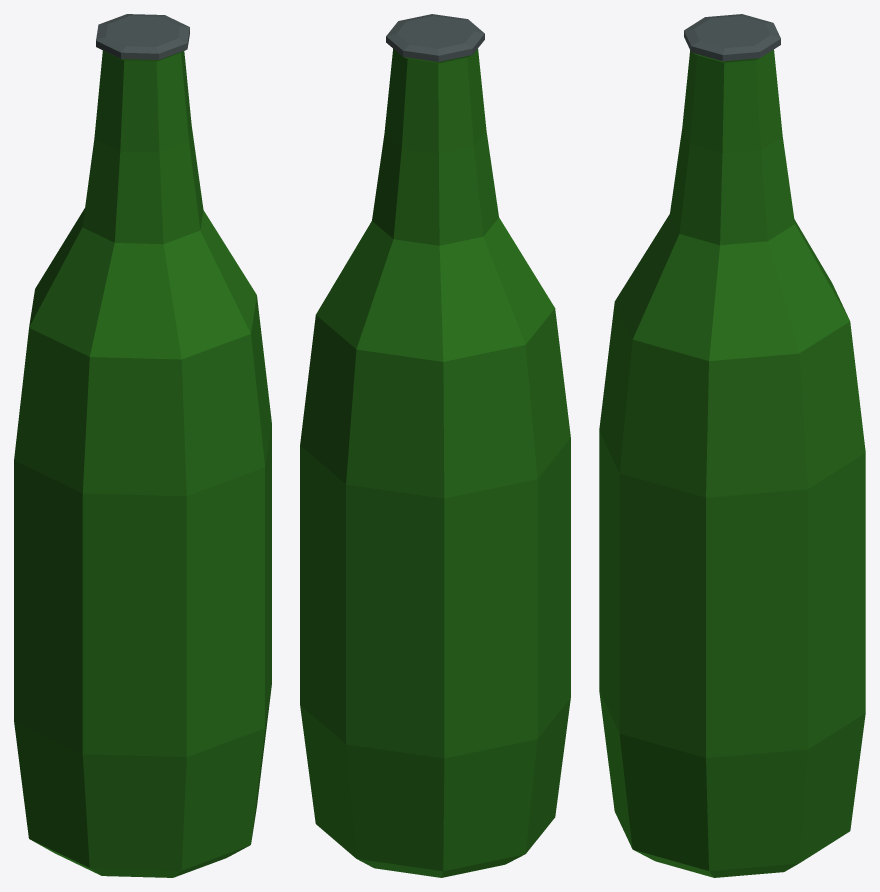
Rendered from glass_bottle.fbx.
3 views of the same model, side by side, from view 1: azimuth 30°, elevation 25°; view 2: azimuth 150°, elevation 25°; view 3: azimuth 270°, elevation 25° (orthographic).
Parts seen in each view (by area): view 1: Cylinder.001; view 2: Cylinder.001; view 3: Cylinder.001.
Boxes of the visible parts, x1=… form: Cylinder.001: x1=14, y1=14, x2=271, y2=877; Cylinder.001: x1=300, y1=14, x2=570, y2=877; Cylinder.001: x1=599, y1=14, x2=865, y2=877.
Size of the model in its own units: 195 by 653 by 195.
